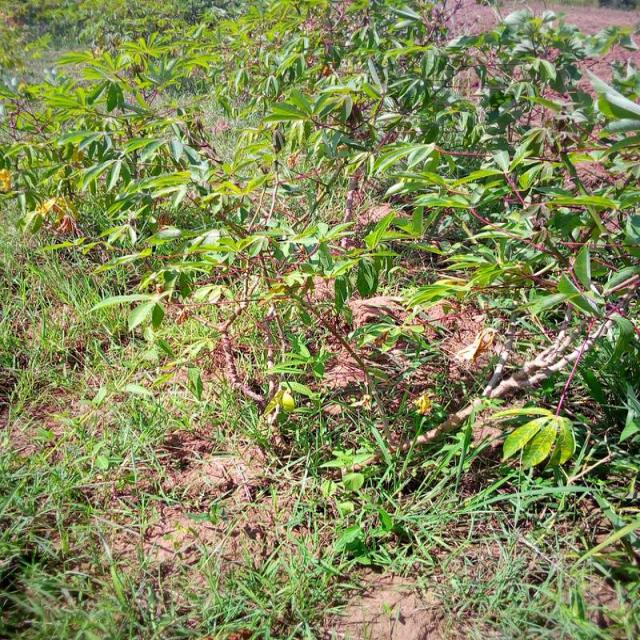cassava leaf: (501, 413, 575, 470)
